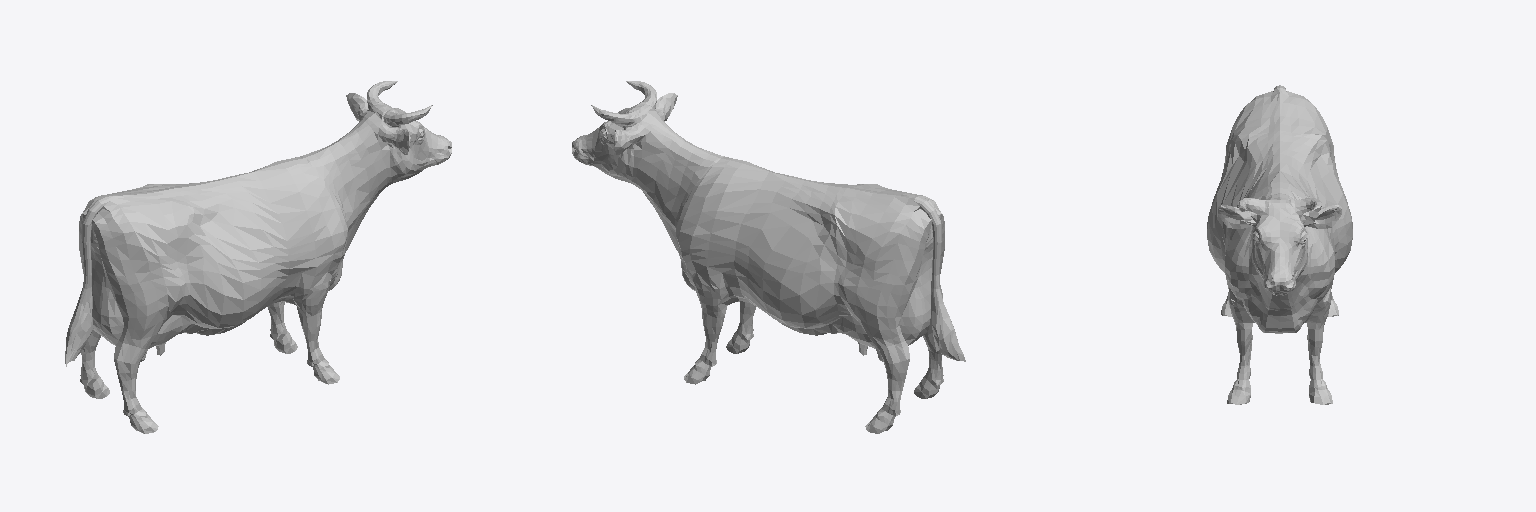
Rendered from Cow_dABF.obj.
3 views of the same model, side by side, from view 1: azimuth 30°, elevation 25°; view 2: azimuth 150°, elevation 25°; view 3: azimuth 270°, elevation 25° (orthographic).
Size of the model in its own units: 1.64 by 1.01 by 0.5354.